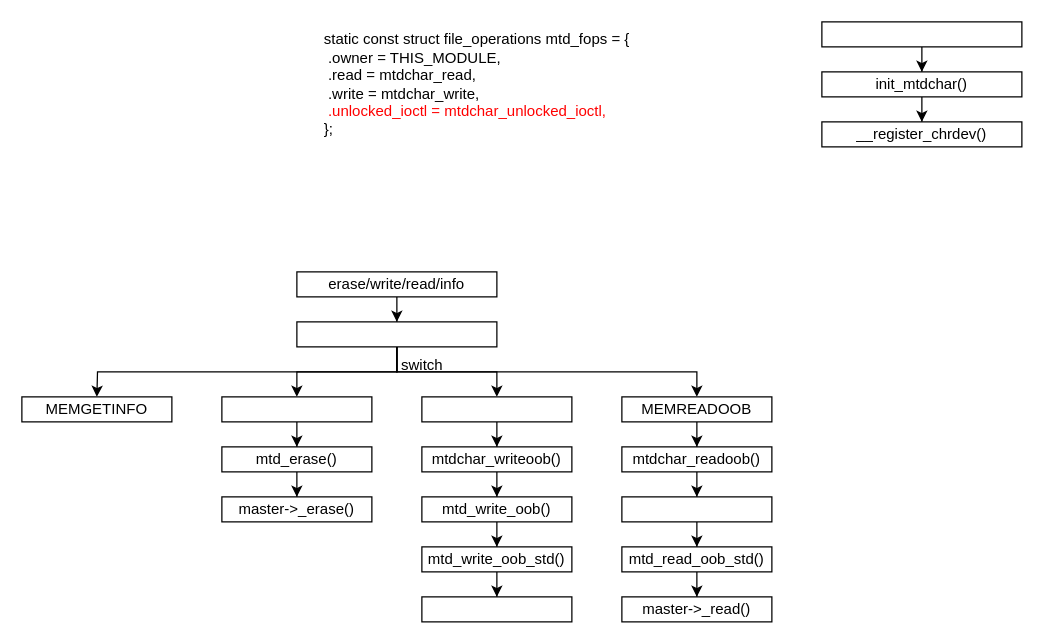
Some shapes in this 1044 by 644 pixel diagram are drawn without their labels. The centre of each missing label's shape, as x and y in pixels:
init_mtd(): the point at 921,34
master->_write(): the point at 496,609
MEMERASE64: the point at 296,409
MEMWRITEOOB: the point at 496,409
mtd_read_oob(): the point at 696,509
mtdchar_unlocked_ioctl(): the point at 396,334
